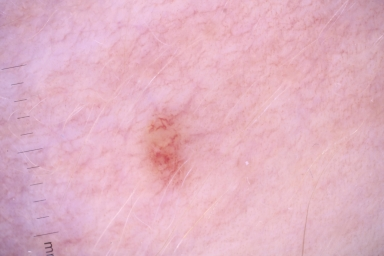melanoma: (145, 114, 188, 183)
